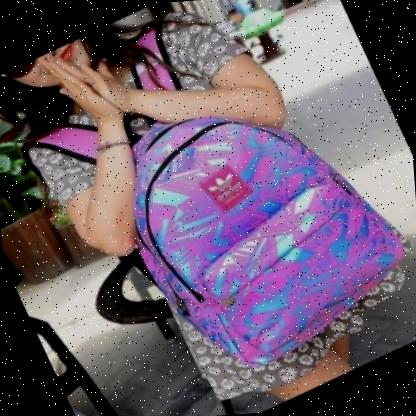bag: (110, 93, 416, 378)
